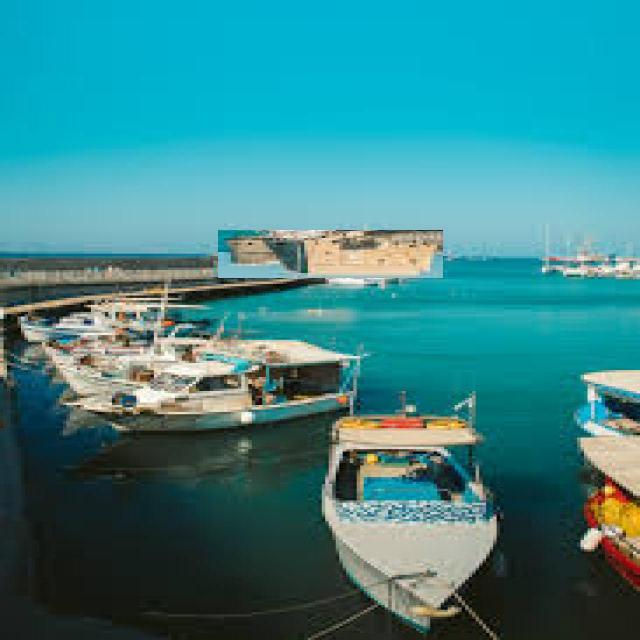Kules: (219, 231, 444, 279)
